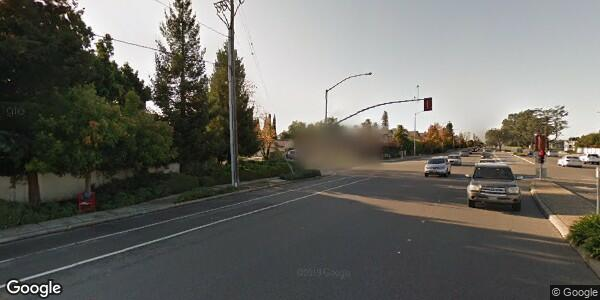Steel_Pole: (322, 69, 376, 125)
Wood_Pole: (211, 1, 248, 187)
